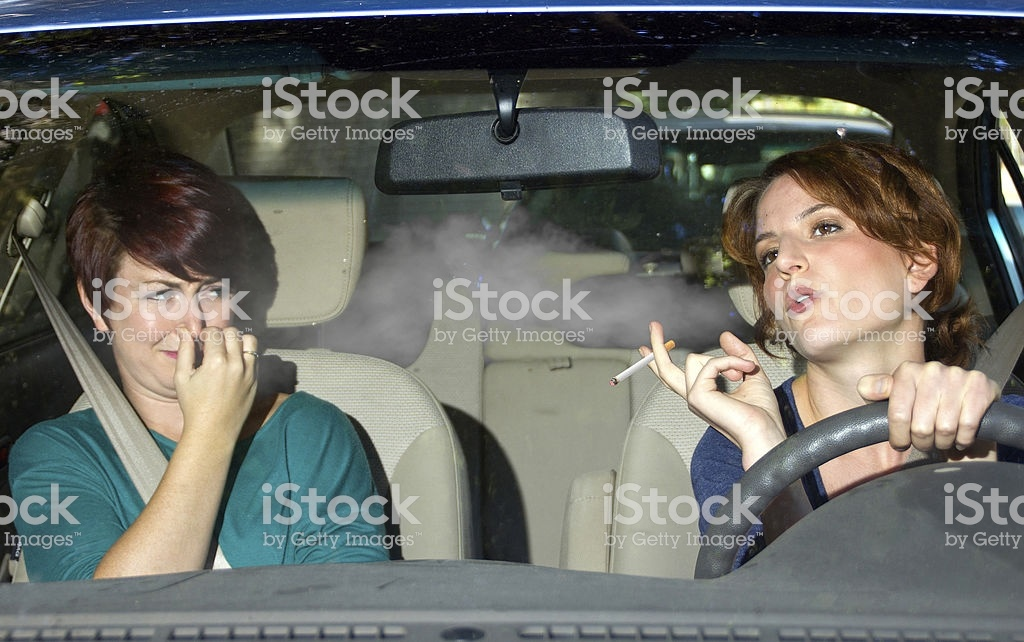sigaretta: (608, 341, 678, 385)
